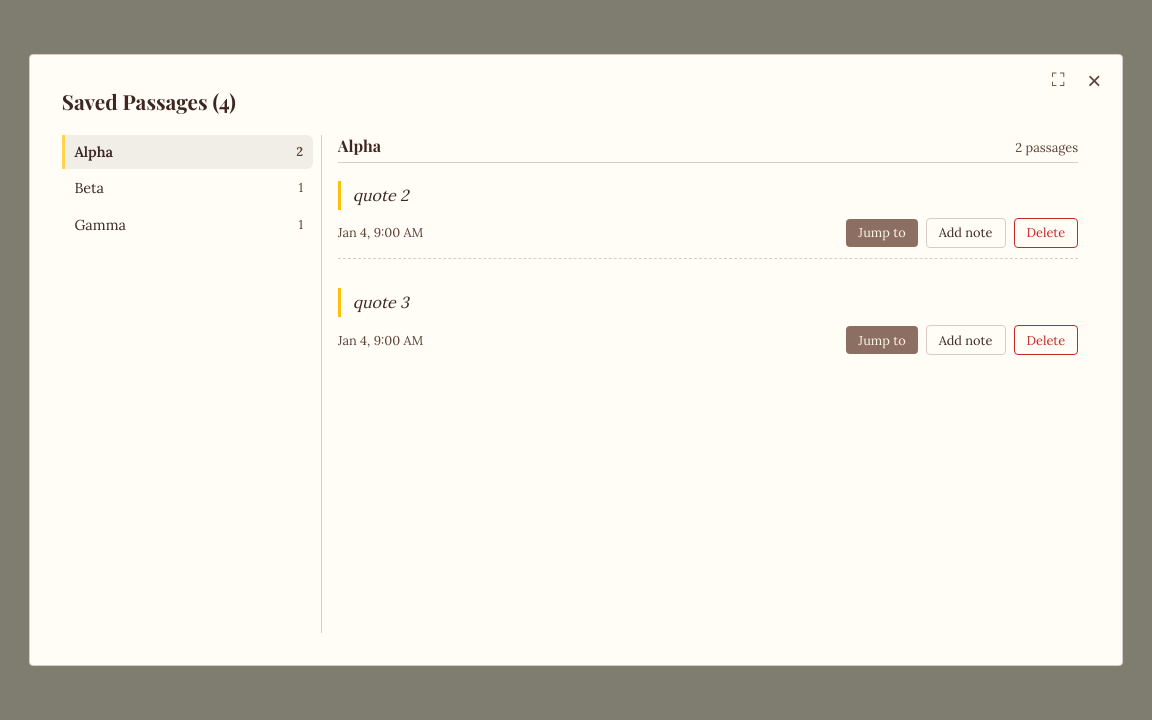
Test case: ExplanationMarksPanel › shows an error and keeps the draft when the note cannot be saved
Click the 1st button "Add note" at coordinates (966, 233), box [926,218,1006,248]
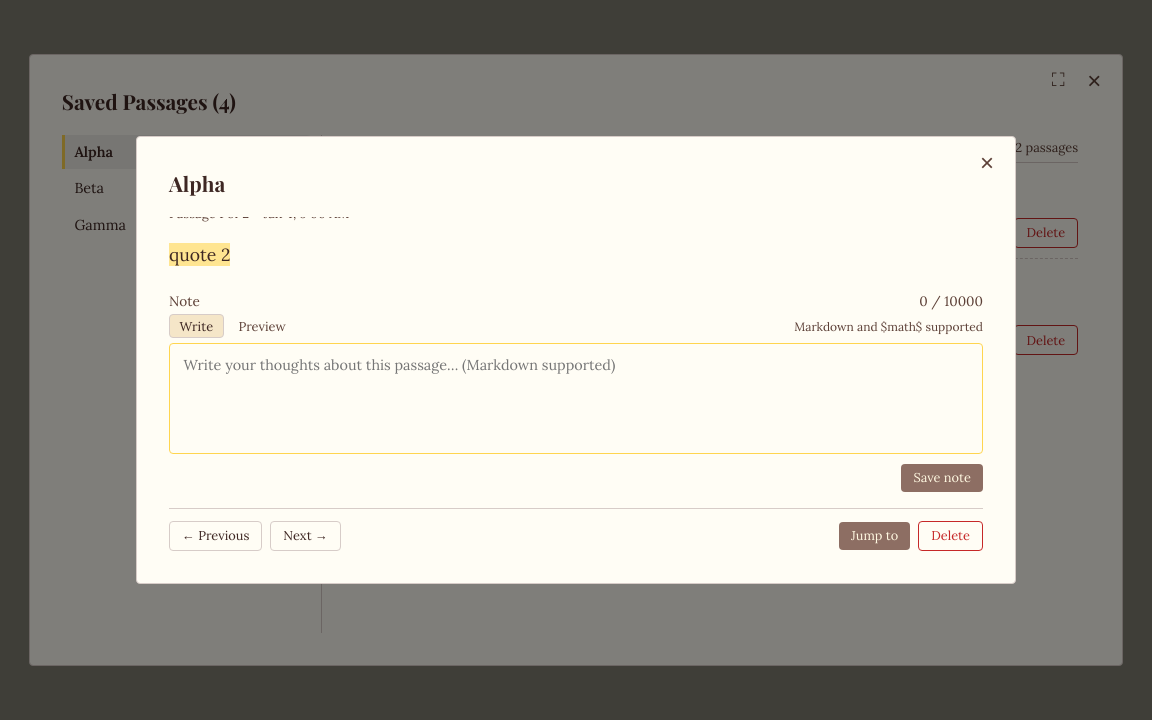
Type "draft" into the text box labelled "Note" at coordinates (576, 398), box [169,343,983,454]
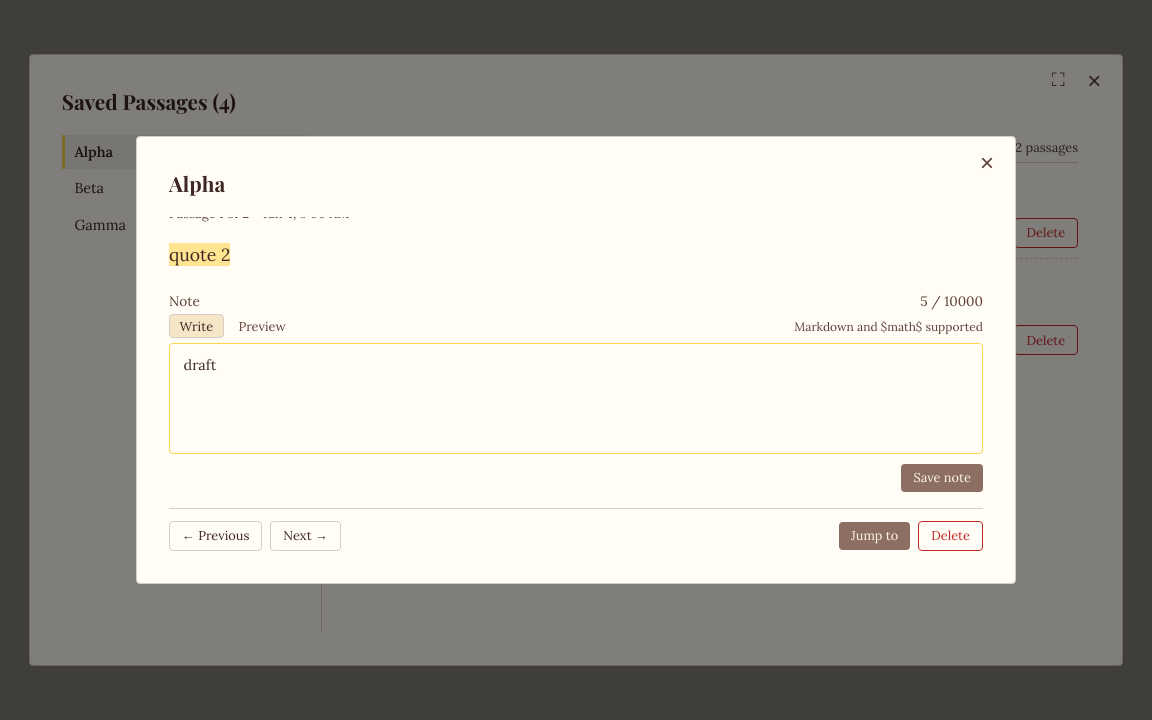
Click the button "Save note" at coordinates (942, 478), box [901,464,983,492]
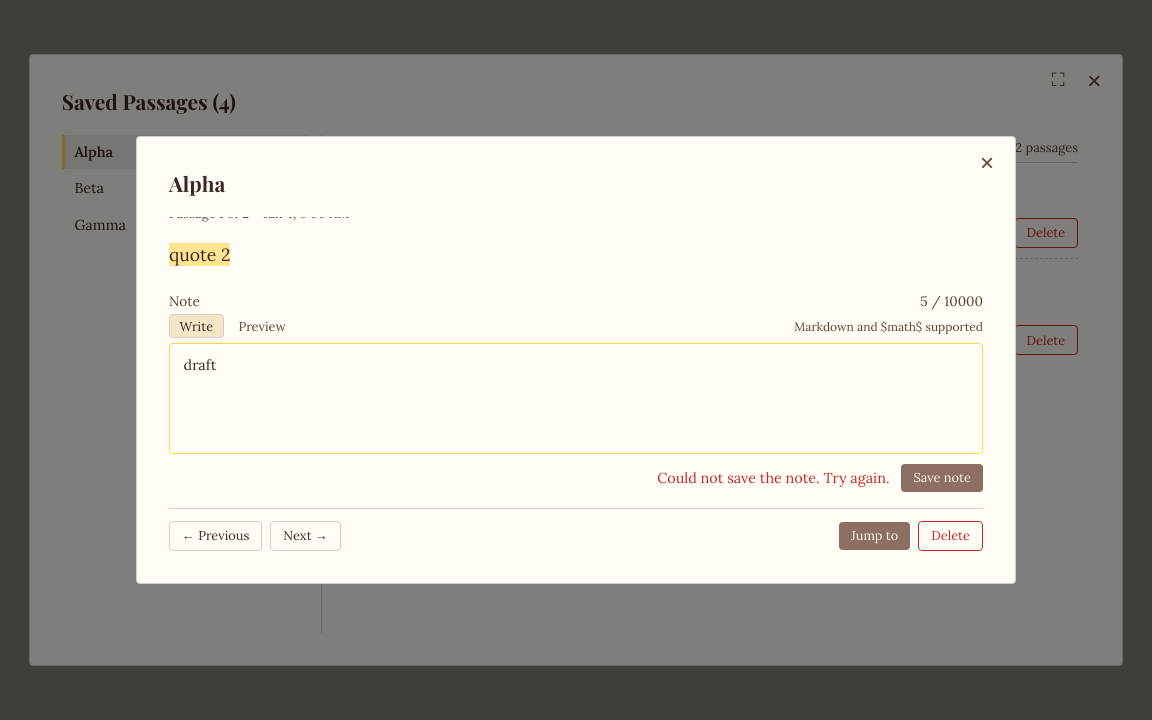
expect the message reads "Could not save the note. Try again.": met, box [657,469,890,487]
